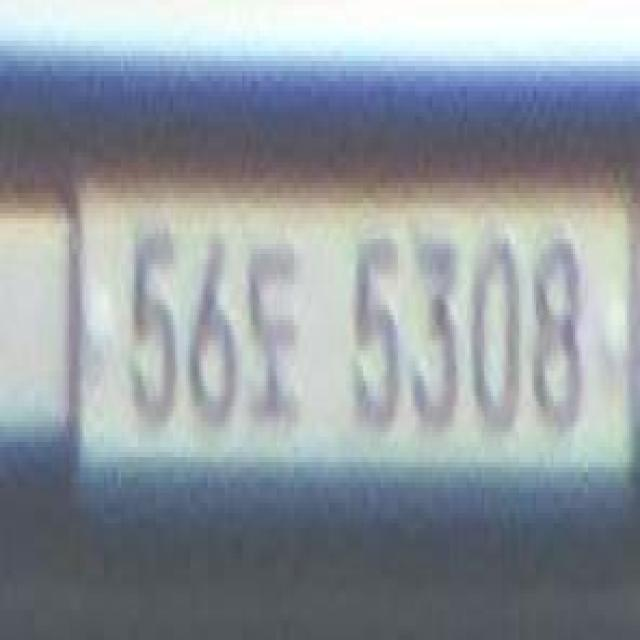illegal_plate: (76, 158, 636, 518)
